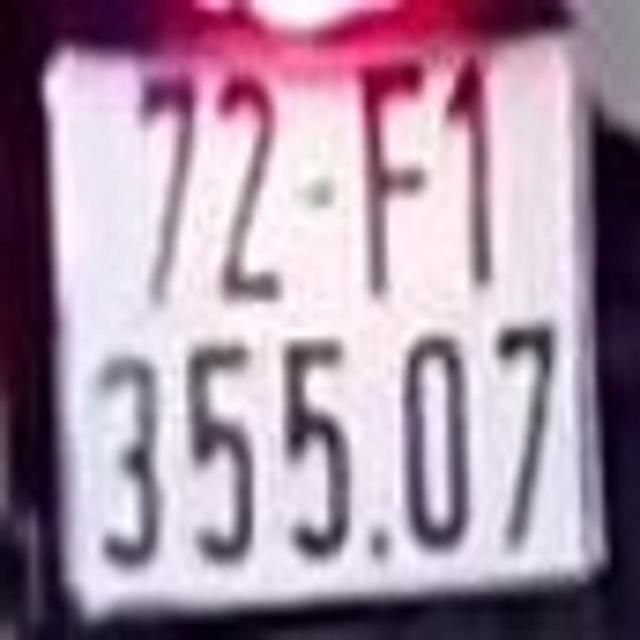0: (400, 334, 475, 556)
1: (446, 58, 496, 289)
2: (210, 76, 284, 302)
3: (96, 358, 160, 564)
5: (281, 340, 353, 554), (184, 347, 252, 556)
7: (128, 76, 199, 308), (494, 321, 556, 553)
F: (347, 62, 433, 292)
